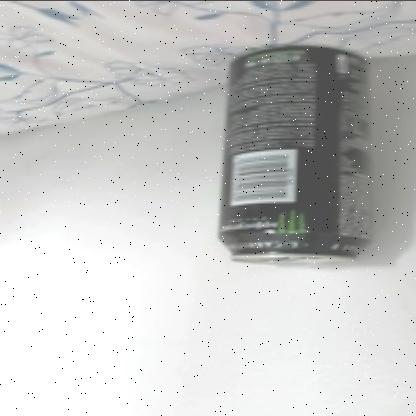Can: (218, 43, 374, 266)
